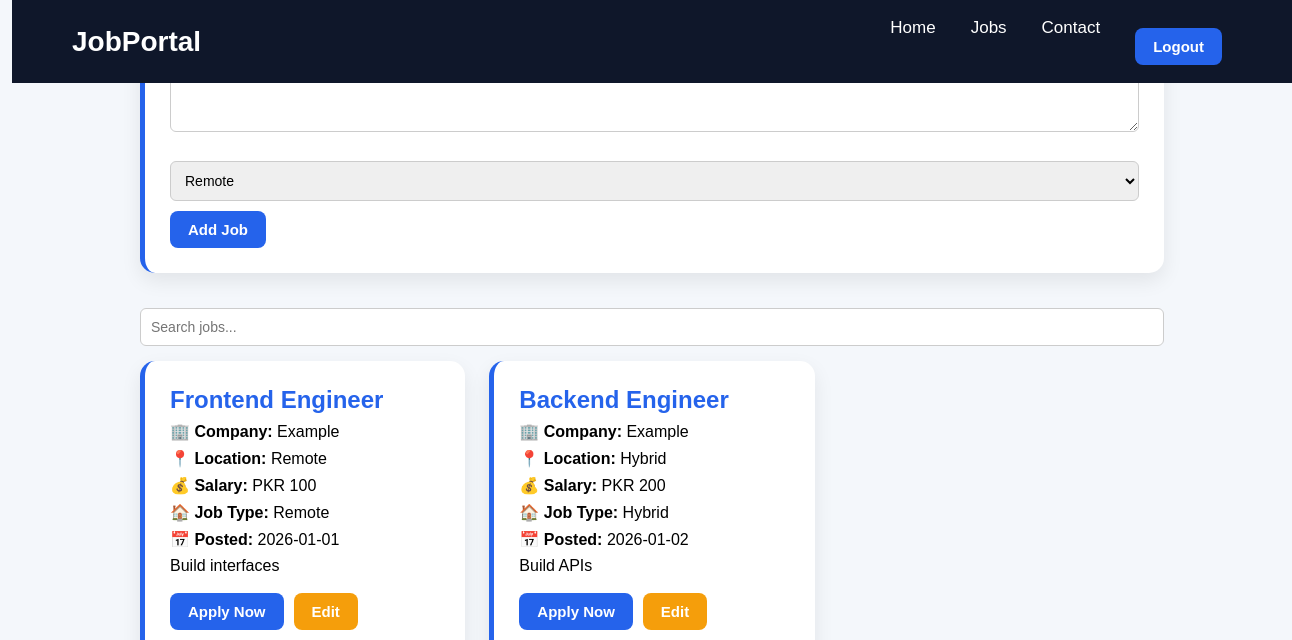
Scenario: cancelling and saving an edit reset every job form field
(page scrolled)
Expected: the button "Add Job" is shown, [170,211,266,248]
Click the button "Edit" below "Build interfaces" at coordinates (326, 611), box [294,593,358,630]
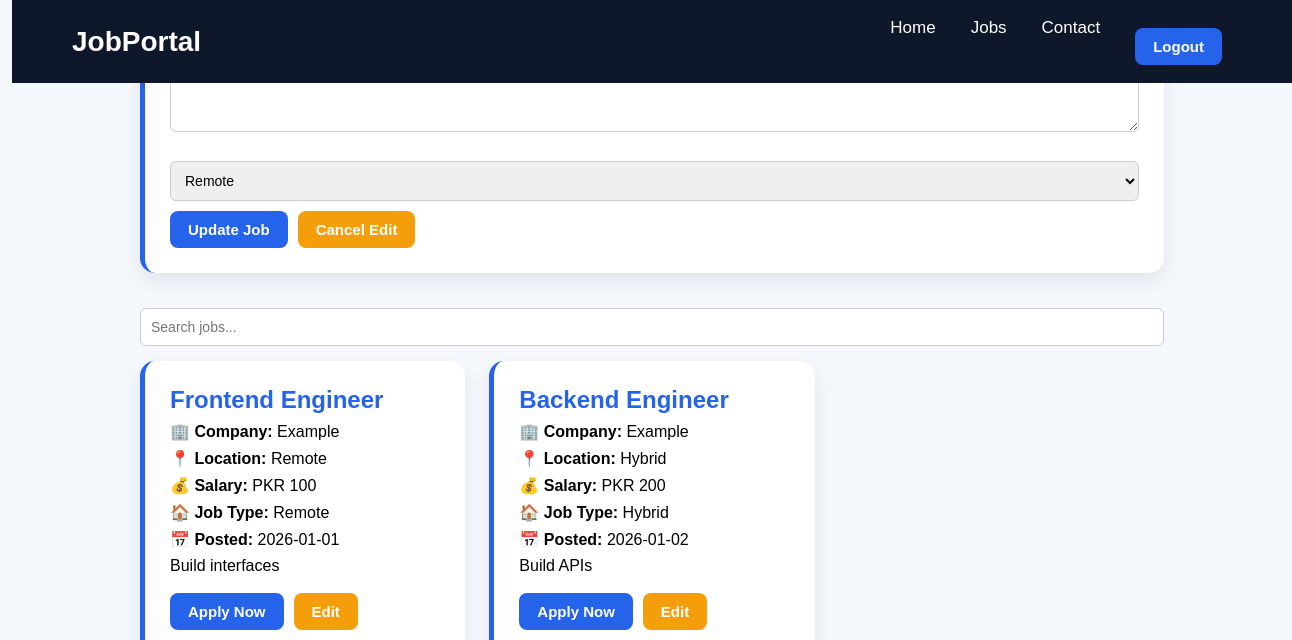
Expected: the dropdown shows "Remote", [170,161,1139,201]
Click the button "Cancel Edit" at coordinates (357, 229), box [298,211,415,248]
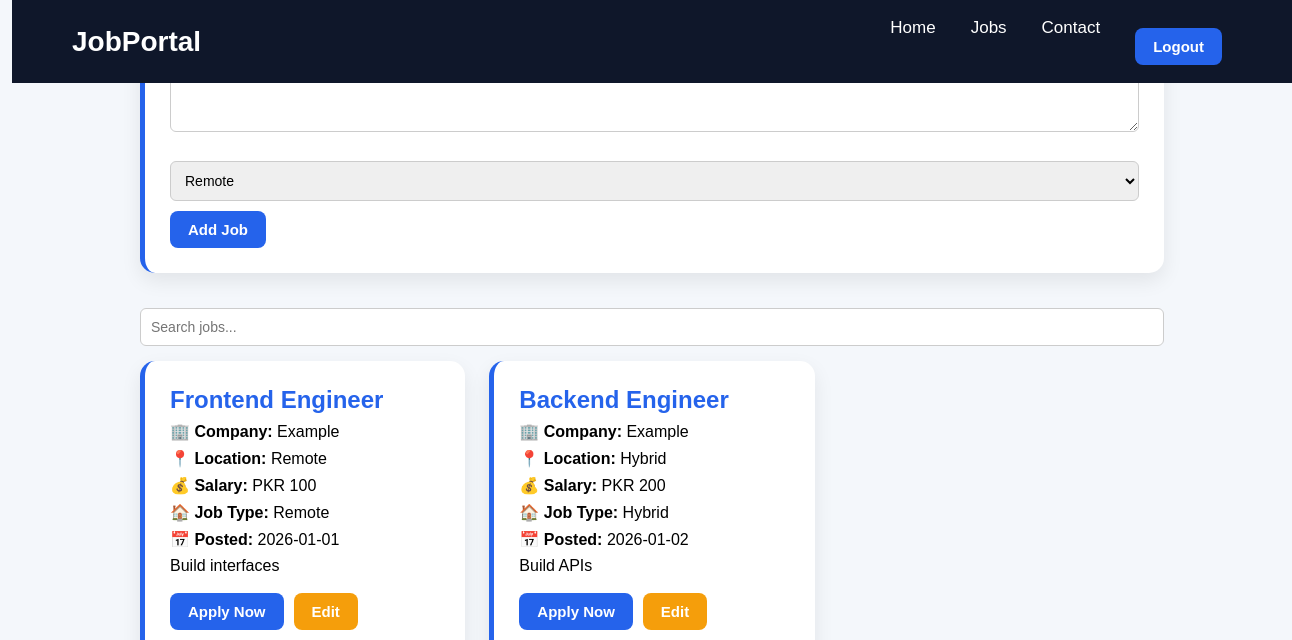
Expected: the text box with placeholder "Description" is empty, [170,32,1139,132]
Result: the button "Add Job" is shown at [170,211,266,248]
Click the button "Edit" below "Build interfaces" at coordinates (326, 611), box [294,593,358,630]
(page scrolled)
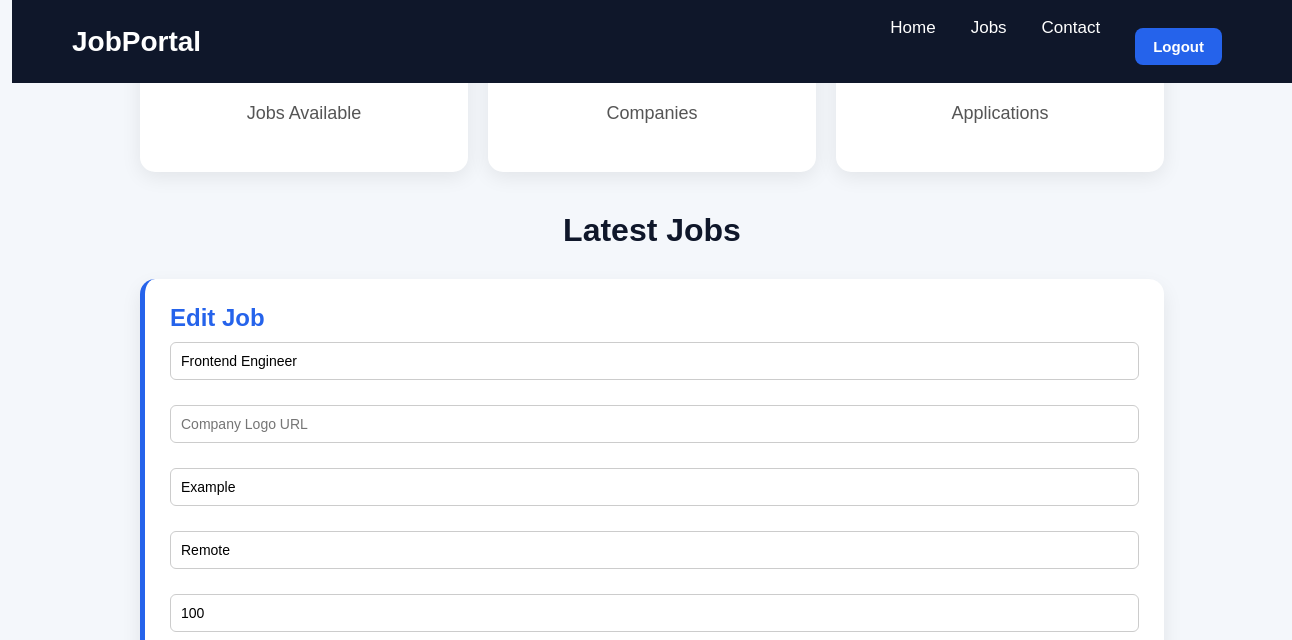
Replace the text in the 1st field with placeholder "Job Title" with "Updated Engineer" at coordinates (654, 361), box [170,342,1139,380]
Type "https://example.com/logo.png" into the field with placeholder "Company Logo URL" at coordinates (654, 424), box [170,405,1139,443]
(page scrolled)
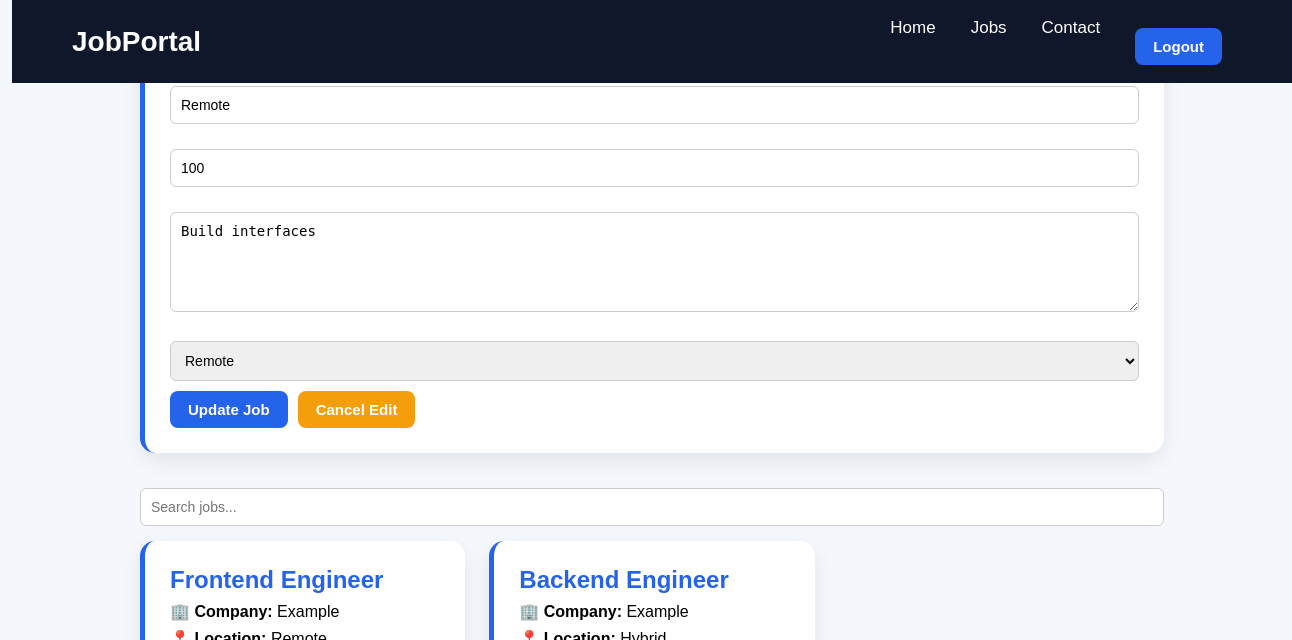
Select "Hybrid" in the dropdown at coordinates (654, 361), box [170,341,1139,381]
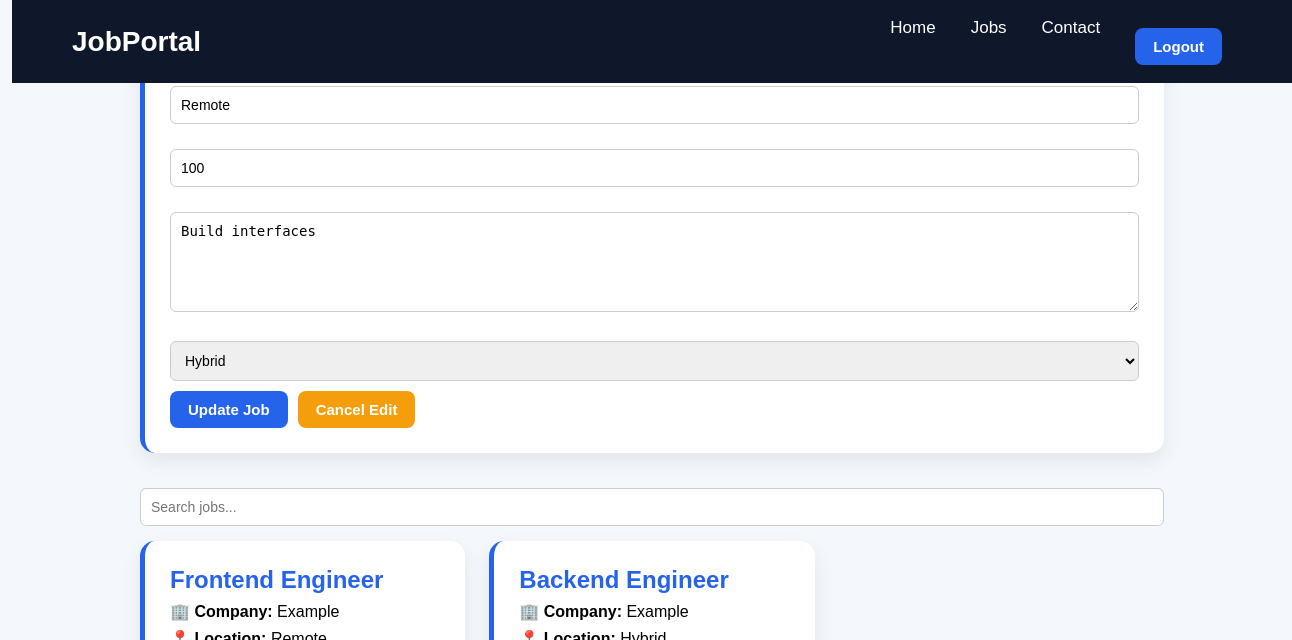
Click the button "Update Job" at coordinates (229, 409), box [170,391,288,428]
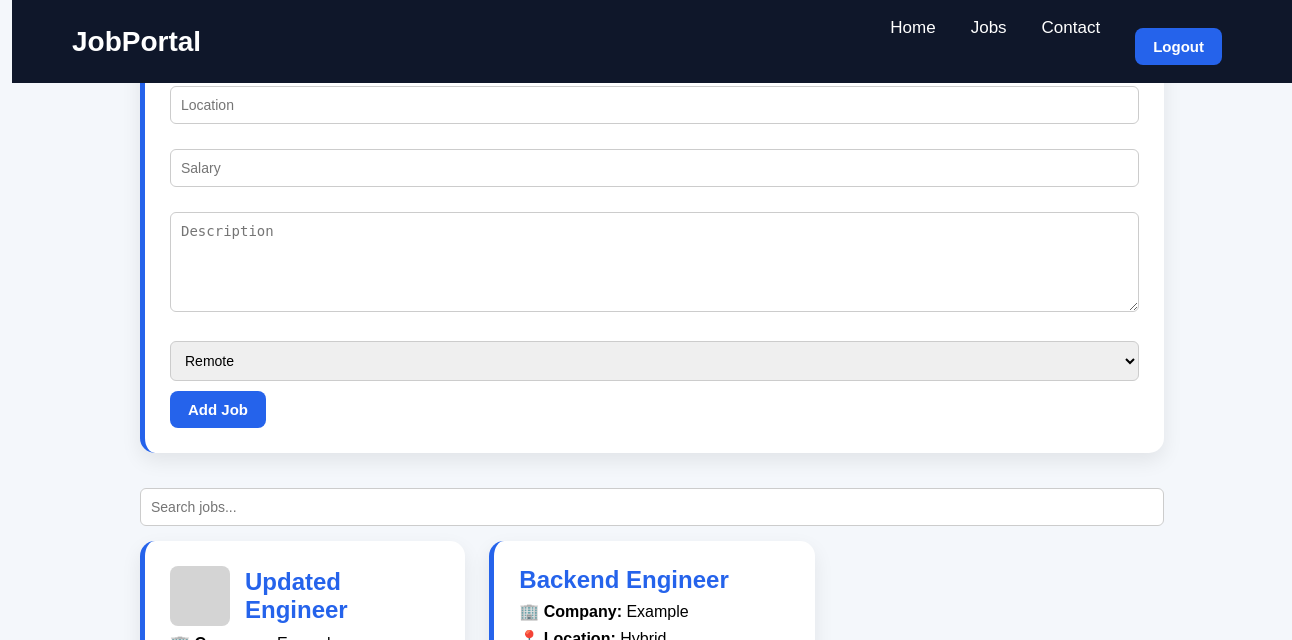
Result: the heading "Updated Engineer" is shown at [245,568,348,623]
Result: the button "Add Job" is shown at [170,391,266,428]
